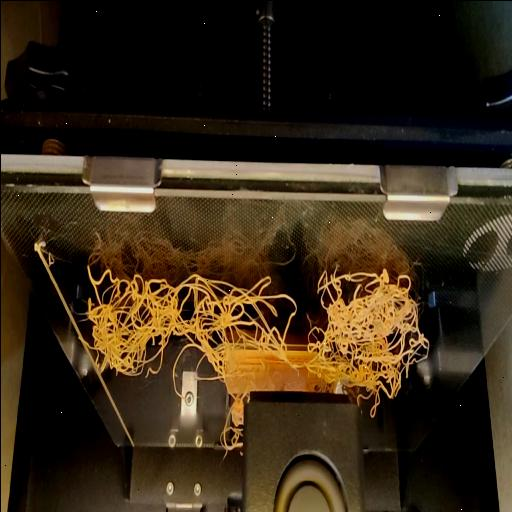spaghetti: (78, 263, 428, 391), (220, 392, 242, 462), (360, 394, 382, 416)
